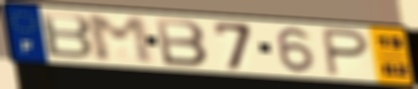6: (274, 26, 318, 74)
7: (212, 20, 255, 72)
B: (153, 16, 211, 69), (38, 10, 96, 61)
M: (83, 14, 159, 66)
P: (320, 26, 372, 79)
